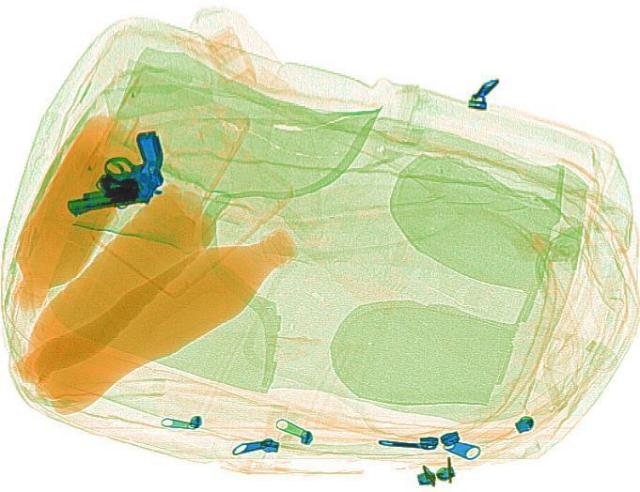Gun: (58, 117, 190, 232)
